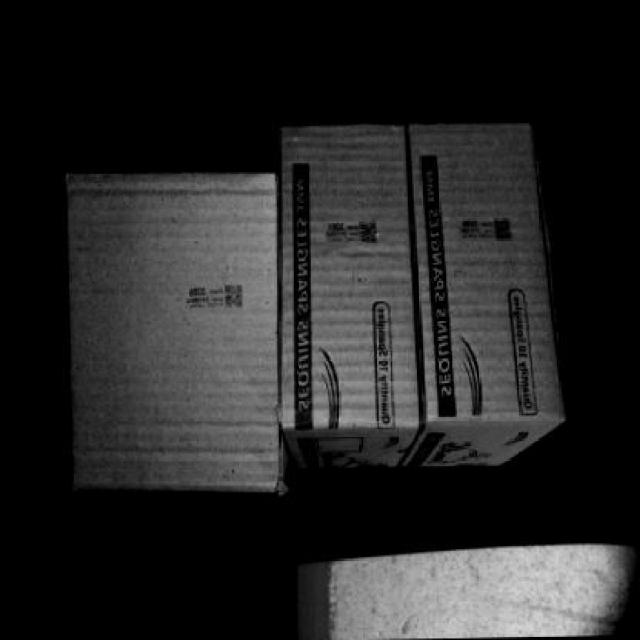cardboxes: (71, 172, 280, 494), (416, 119, 569, 418), (277, 129, 412, 425)
